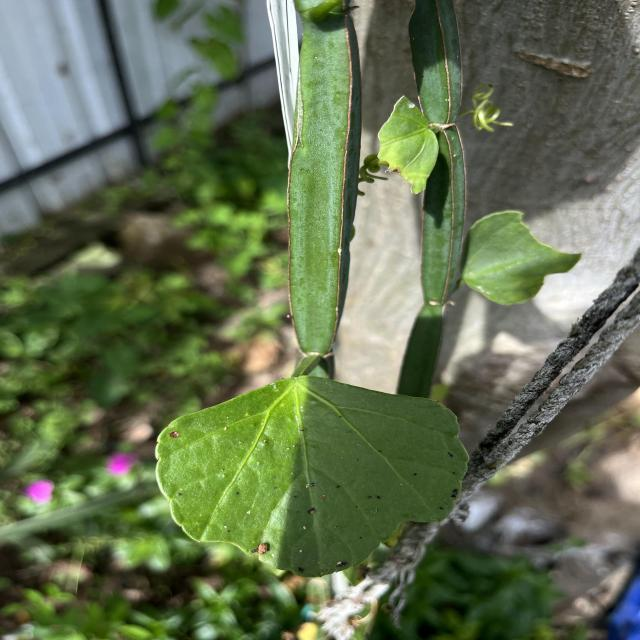Cissus quadrangularis: (150, 370, 476, 581)
